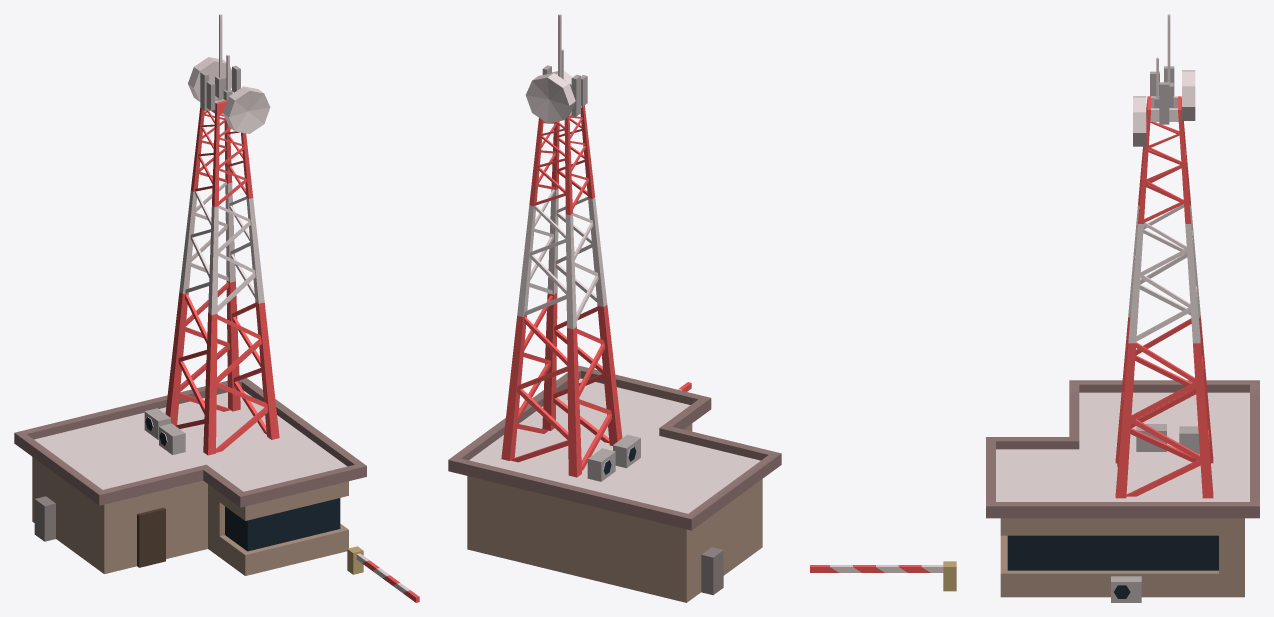
Rendered from Radio_Station1.fbx.
3 renders of one model, left to right at view 1: azimuth 30°, elevation 25°; view 2: azimuth 150°, elevation 25°; view 3: azimuth 270°, elevation 25°, orthographic. The views are drawn at different scales.
Visible parts, largest first — view 1: Radio_Station, ParkingBar; view 2: Radio_Station; view 3: Radio_Station, ParkingBar.
Part boxes in pixels (x1=…): Radio_Station: x1=14, y1=14, x2=366, y2=575; ParkingBar: x1=347, y1=546, x2=419, y2=602; Radio_Station: x1=448, y1=14, x2=781, y2=602; Radio_Station: x1=986, y1=14, x2=1259, y2=602; ParkingBar: x1=810, y1=561, x2=956, y2=591.
Size of the model in its own units: 1111 by 1677 by 2276.
